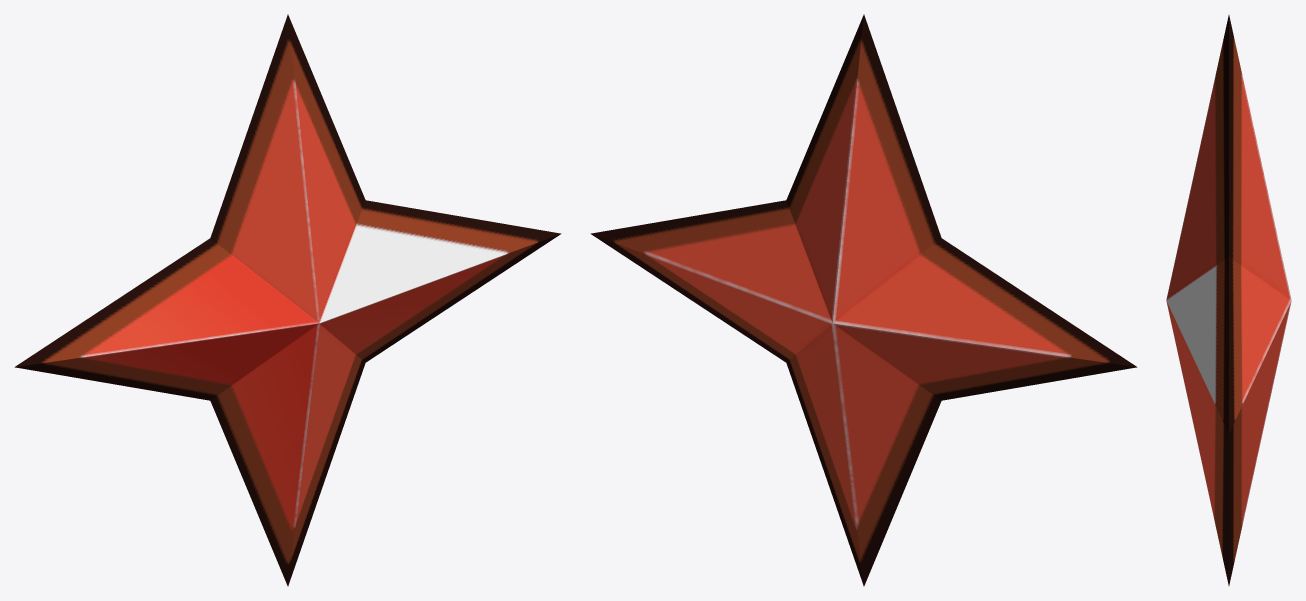
Rendered from Board_Star_Red.fbx.
3 views of the same model, side by side, from view 1: azimuth 30°, elevation 25°; view 2: azimuth 150°, elevation 25°; view 3: azimuth 270°, elevation 25° (orthographic).
Visible parts, largest first — view 1: Board_Star_Red; view 2: Board_Star_Red; view 3: Board_Star_Red.
Part boxes in pixels (x1,y1,x2,y2): Board_Star_Red: (14,14,561,586); Board_Star_Red: (590,14,1137,586); Board_Star_Red: (1166,15,1291,585).
Bounding box in the file's own units: 1 × 1 × 0.1984.
